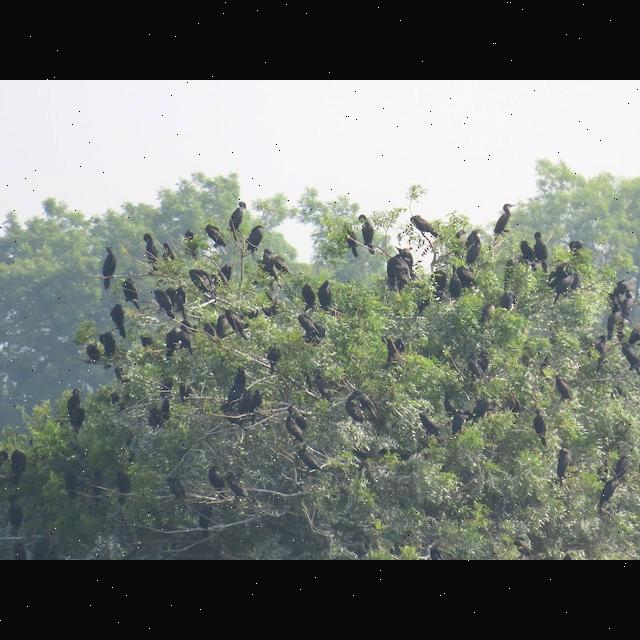cormorant: (488, 202, 520, 244), (98, 244, 119, 292), (230, 200, 248, 242)
